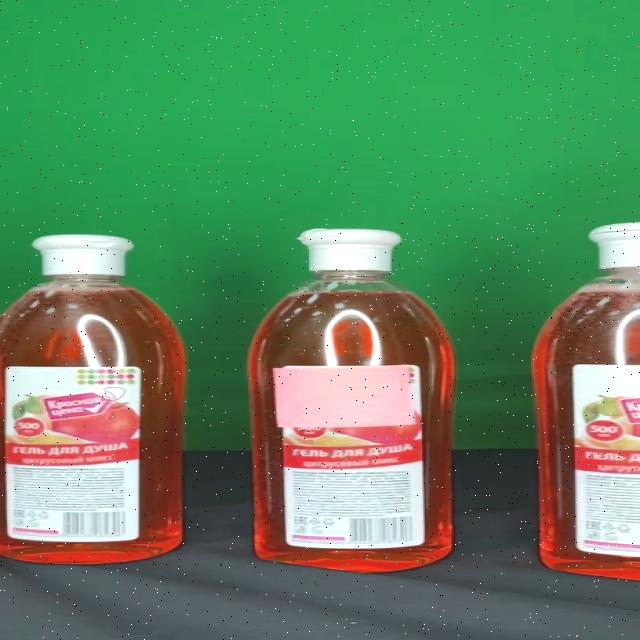Bottle: (247, 229, 456, 572), (0, 234, 187, 564)
Cap: (298, 228, 402, 270), (30, 234, 133, 276)
